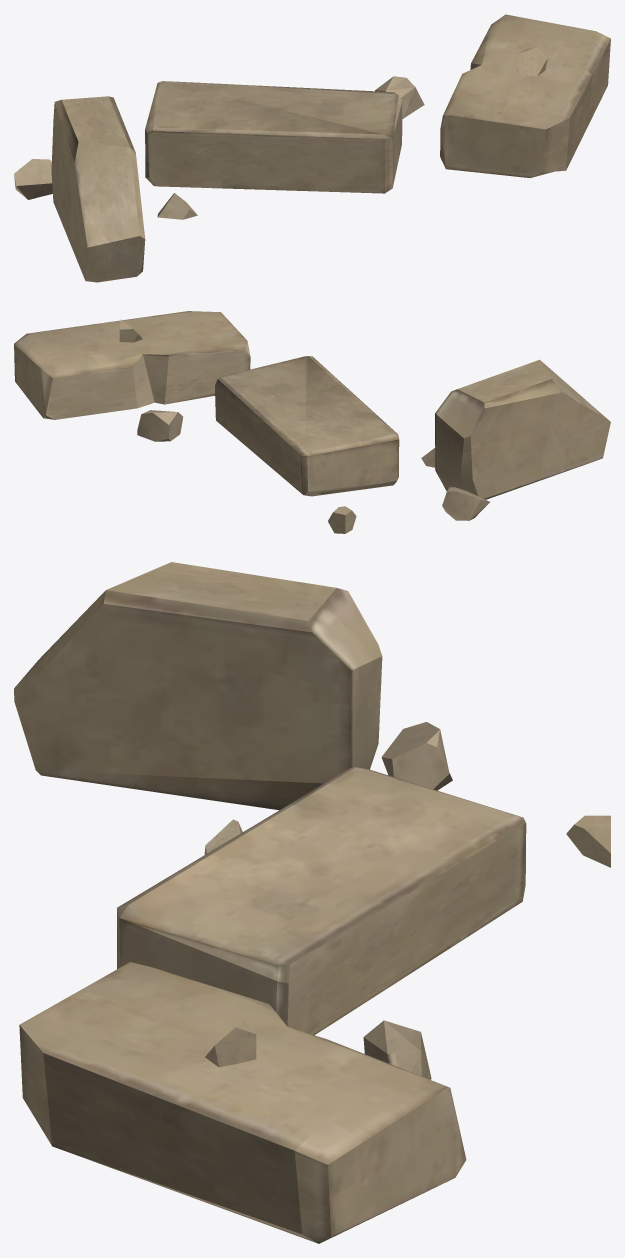
3 views of the same model, one above another, from view 1: azimuth 30°, elevation 25°; view 2: azimuth 150°, elevation 25°; view 3: azimuth 270°, elevation 25° (orthographic). The views are drawn at different scales.
Parts seen in each view (by area): view 1: body0_model0_lod0_mesh0; view 2: body0_model0_lod0_mesh0; view 3: body0_model0_lod0_mesh0.
Boxes of the visible parts, x1=… form: body0_model0_lod0_mesh0: x1=14, y1=14, x2=610, y2=282; body0_model0_lod0_mesh0: x1=14, y1=311, x2=610, y2=533; body0_model0_lod0_mesh0: x1=14, y1=562, x2=610, y2=1243.
Bounding box in the file's own units: 179 × 32.84 × 88.45.
1 material, 1 textured.
